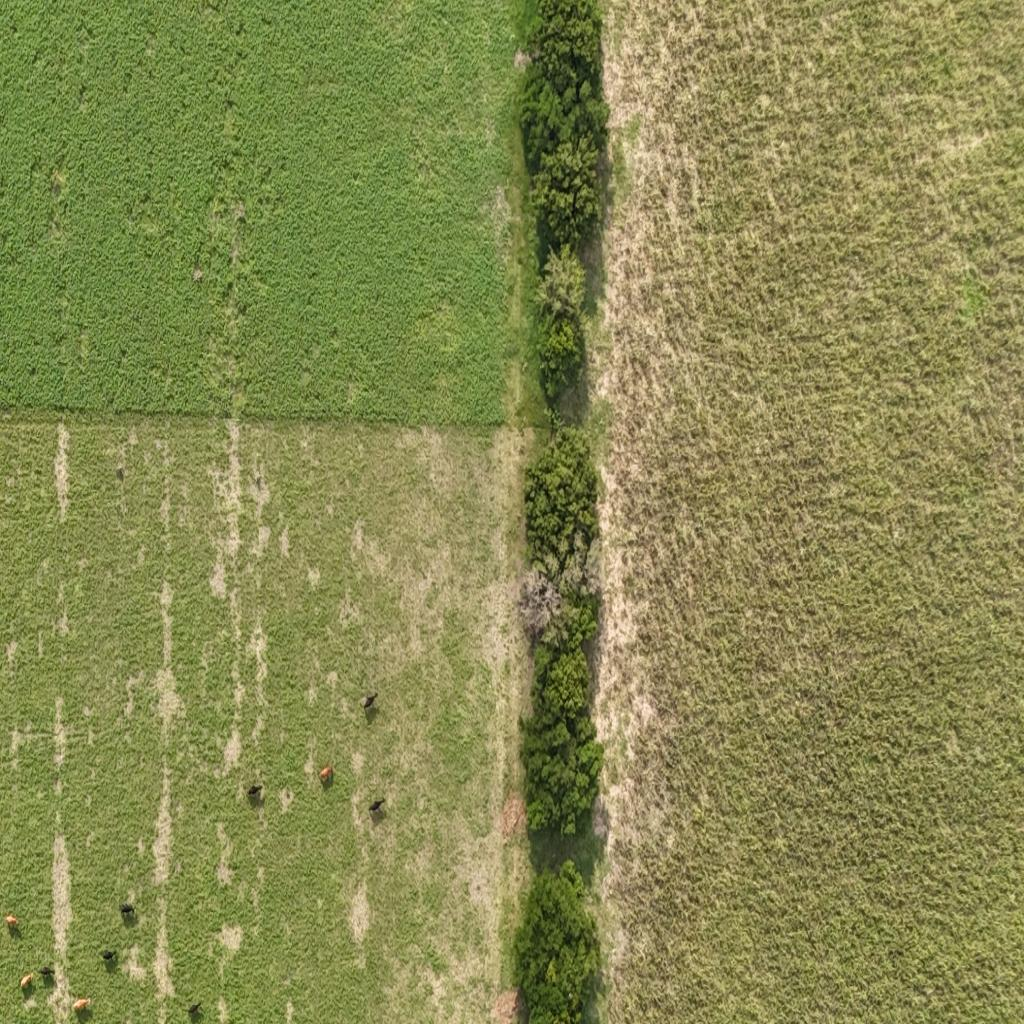cow: (246, 780, 264, 800), (363, 692, 378, 712), (72, 997, 90, 1012), (369, 798, 385, 814), (320, 765, 334, 782), (20, 972, 34, 989), (188, 1002, 202, 1018), (101, 949, 117, 962), (120, 903, 134, 917), (40, 965, 54, 978), (6, 914, 19, 928)
